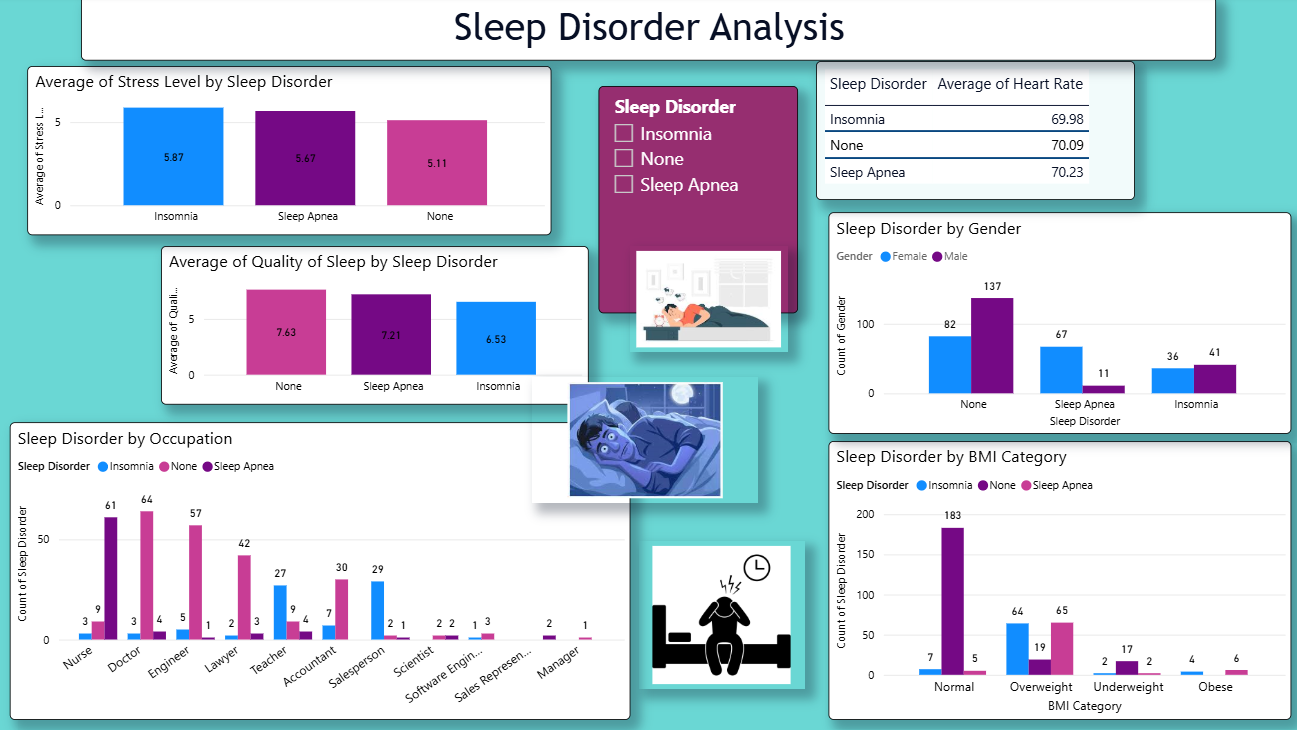

The dashboard page shown, as its layout file describes it:
{"tool":"powerbi","page":{"name":"Sleep Disorder by BMI, Occupation & Gender","canvas":[1280,720],"ordinal":3},"visuals":[{"type":"clusteredColumnChart","title":"Sleep Disorder by Occupation","fields":{"Y":["CountNonNull(Sleep disorder.Sleep Disorder)"],"Category":["Sleep disorder.Occupation"],"Series":["Sleep disorder.Sleep Disorder"]},"box":[13.8,416.5,607.5,290.8],"z":0},{"type":"clusteredColumnChart","title":"Sleep Disorder by BMI Category","fields":{"Category":["By Gender.BMI Category"],"Series":["By Gender.Sleep Disorder"],"Y":["CountNonNull(By Gender.Sleep Disorder)"]},"box":[815,435,453,273],"z":1000},{"type":"columnChart","title":"Average of Quality of Sleep by Sleep Disorder ","fields":{"Y":["Avg(Sleep disorder.Quality of Sleep)"],"Category":["Sleep disorder.Sleep Disorder"],"Series":["Sleep disorder.Sleep Disorder"]},"box":[161.8,244.4,418.2,154.9],"z":2000},{"type":"clusteredColumnChart","title":"Sleep Disorder by Gender","fields":{"Category":["By Gender.Sleep Disorder"],"Y":["CountNonNull(By Gender.Gender)"],"Series":["By Gender.Gender"]},"box":[815,212,453,217],"z":3000},{"type":"columnChart","title":"Average of Stress Level by Sleep Disorder","fields":{"Category":["Sleep disorder.Sleep Disorder"],"Y":["Avg(Sleep disorder.Stress Level)"],"Series":["Sleep disorder.Sleep Disorder"]},"box":[31,68.8,512.8,165.2],"z":4000},{"type":"tableEx","fields":{"Values":["Sleep disorder.Sleep Disorder","Avg(Overview.Heart Rate)"]},"box":[802,63,312,136],"z":5000},{"type":"textbox","box":[82.8,0,1110.4,63.2],"z":6000},{"type":"slicer","fields":{"Values":["Sleep disorder.Sleep Disorder"]},"box":[590,88,195,222],"z":7000},{"type":"image","box":[524,373,221,123],"z":8000},{"type":"image","box":[620,244,155,104],"z":9000},{"type":"image","box":[629,533,163,145],"z":10000}]}

Visuals, with their boxes in screenshot pixels (x1, y1, x2, y2), scaled from the page's 1280x720 canvas onto the 1297x730 screenshot:
"Sleep Disorder by Occupation" clusteredColumnChart: [left=14, top=422, right=630, bottom=717]
"Sleep Disorder by BMI Category" clusteredColumnChart: [left=826, top=441, right=1285, bottom=718]
"Average of Quality of Sleep by Sleep Disorder " columnChart: [left=164, top=248, right=588, bottom=405]
"Sleep Disorder by Gender" clusteredColumnChart: [left=826, top=215, right=1285, bottom=435]
"Average of Stress Level by Sleep Disorder" columnChart: [left=31, top=70, right=551, bottom=237]
tableEx - Sleep disorder.Sleep Disorder x Avg(Overview.Heart Rate): [left=813, top=64, right=1129, bottom=202]
textbox: [left=84, top=0, right=1209, bottom=64]
slicer - Sleep disorder.Sleep Disorder: [left=598, top=89, right=795, bottom=314]
image: [left=531, top=378, right=755, bottom=503]
image: [left=628, top=247, right=785, bottom=353]
image: [left=637, top=540, right=803, bottom=687]
